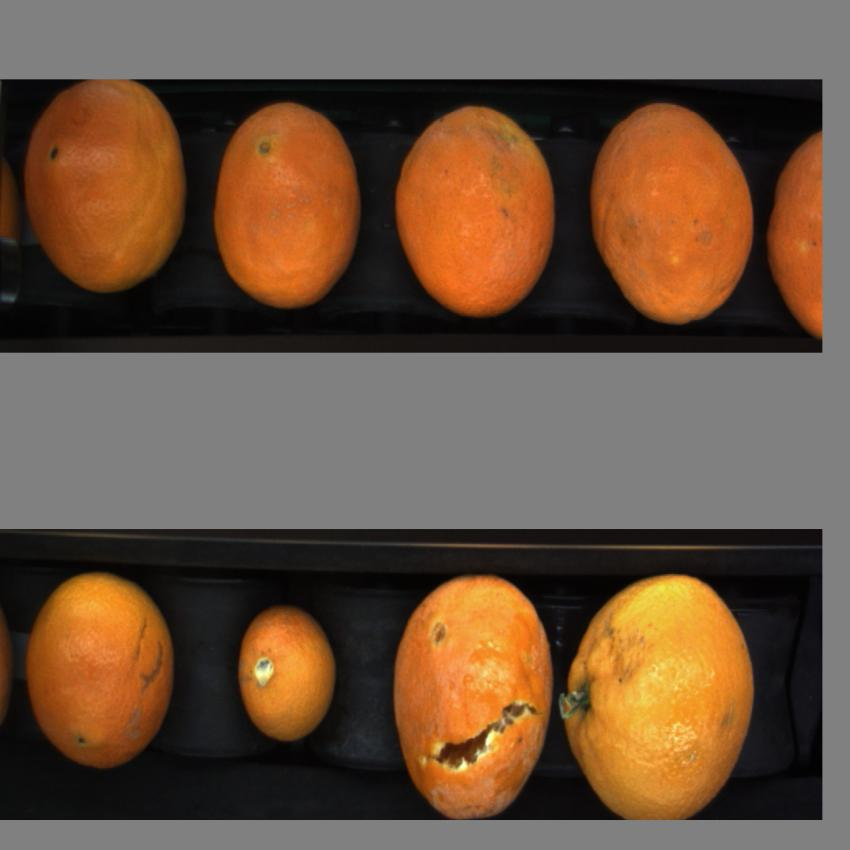Buen estado: (561, 578, 759, 819), (392, 108, 569, 322), (26, 81, 188, 291), (211, 104, 368, 314), (26, 568, 176, 775), (236, 611, 338, 751)
Mal estado: (390, 569, 556, 820), (588, 98, 756, 320), (766, 132, 822, 344)
